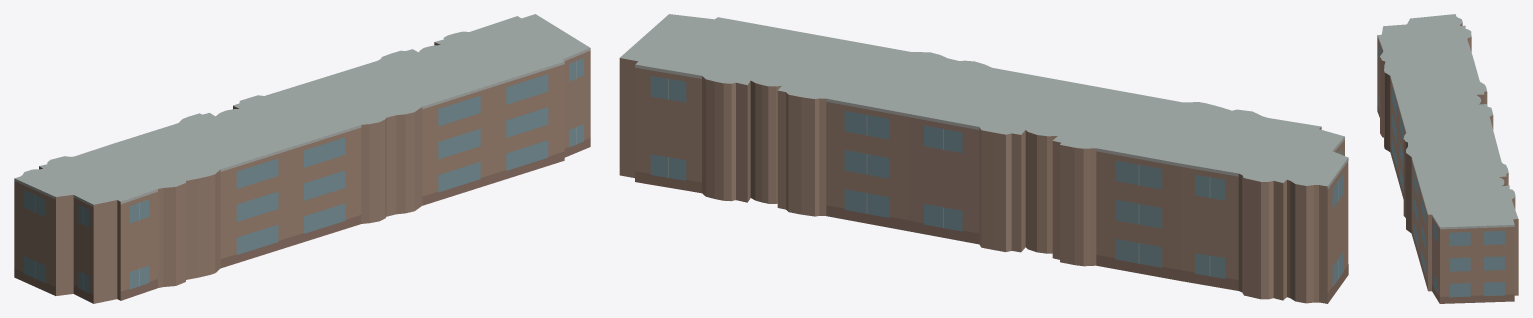
The model's file is survey-upis-32524223.glb.
3 renders of one model, left to right at view 1: azimuth 30°, elevation 25°; view 2: azimuth 150°, elevation 25°; view 3: azimuth 270°, elevation 25°, orthographic. The views are drawn at different scales.
Visible parts, largest first — view 1: survey-upis-32524223.tmp; view 2: survey-upis-32524223.tmp; view 3: survey-upis-32524223.tmp.
Part boxes in pixels (x1,y1,x2,y2): survey-upis-32524223.tmp: (14, 14, 590, 303); survey-upis-32524223.tmp: (619, 14, 1348, 303); survey-upis-32524223.tmp: (1377, 14, 1518, 303).
Bounding box in the file's own units: 54.68 × 9.15 × 15.28.
